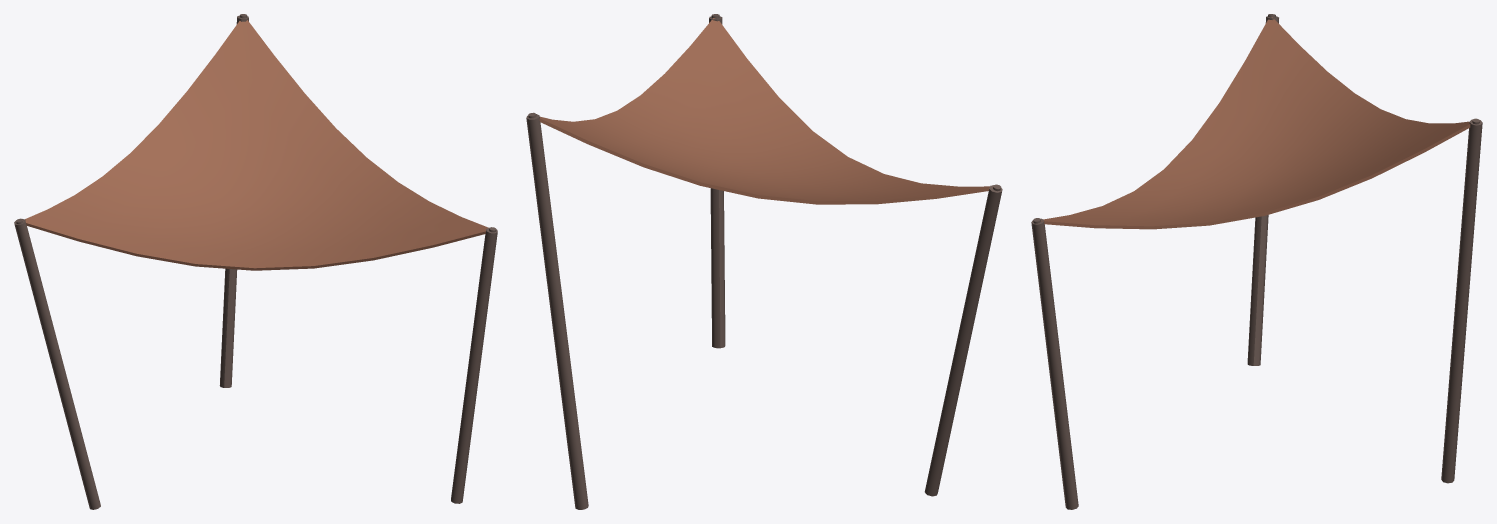
File: Amb5_Sombrilla3.fbx
3 views of the same model, side by side, from view 1: azimuth 30°, elevation 25°; view 2: azimuth 150°, elevation 25°; view 3: azimuth 270°, elevation 25° (orthographic). The views are drawn at different scales.
Parts seen in each view (by area): view 1: Amb5_Sombrilla3; view 2: Amb5_Sombrilla3; view 3: Amb5_Sombrilla3.
Part boxes in pixels (x1=…): Amb5_Sombrilla3: x1=14, y1=14, x2=497, y2=509; Amb5_Sombrilla3: x1=526, y1=14, x2=1002, y2=509; Amb5_Sombrilla3: x1=1031, y1=14, x2=1482, y2=509.
Bounding box in the file's own units: 302 × 275 × 298.
